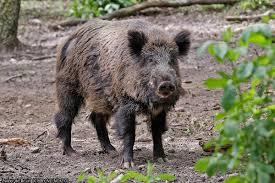wildboar: (51, 17, 195, 169)
